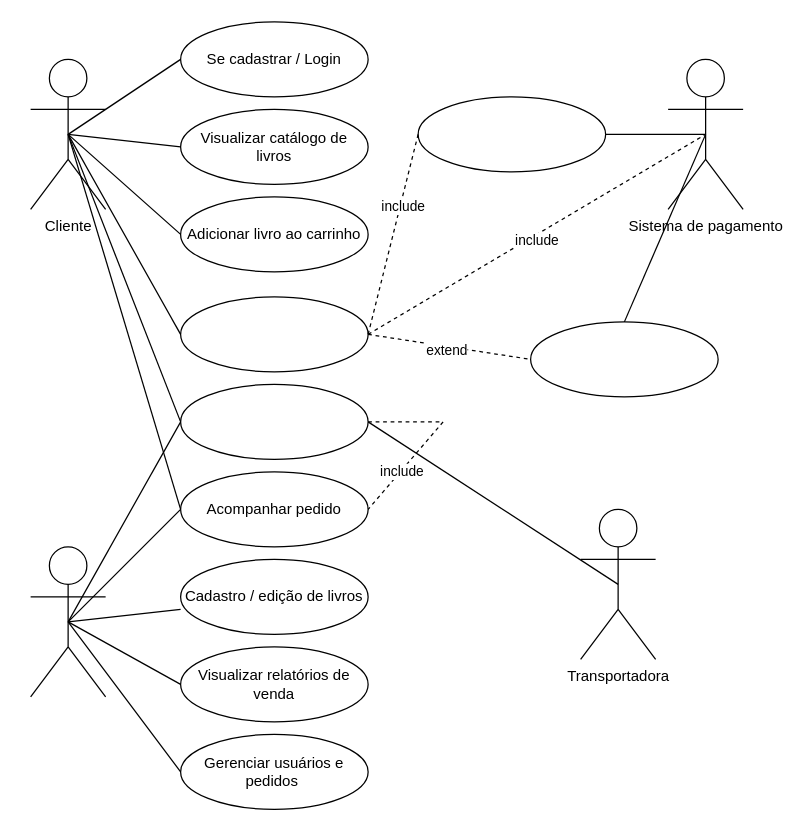
Some shapes in this 804 by 831 pixel diagram are drawn without their labels. Each missing label, with the centre of its shape:
Administrador: the point at 67,621
Enviar confirmação de pedido: the point at 623,359
Finalizar compra: the point at 273,334
Integrar sistema de pagamento: the point at 511,134
Status de entrega: the point at 273,421
